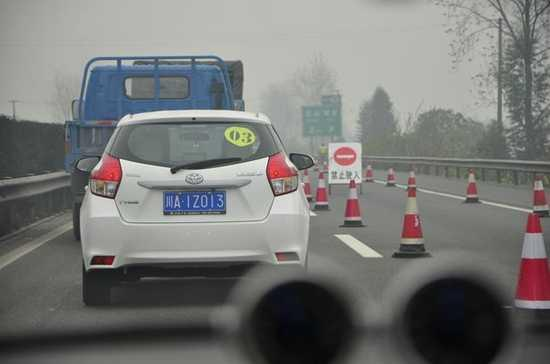bus: (65, 55, 246, 242)
car: (75, 108, 315, 306)
